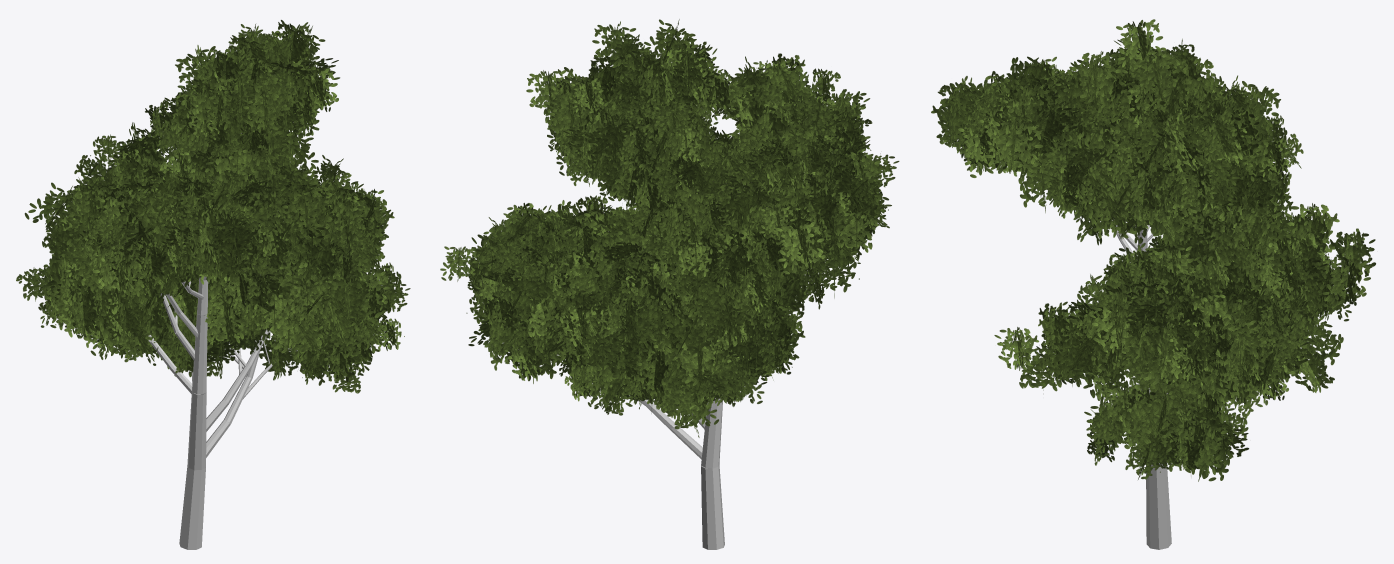
Rendered from beech_0.gltf.
3 renders of one model, left to right at view 1: azimuth 30°, elevation 25°; view 2: azimuth 150°, elevation 25°; view 3: azimuth 270°, elevation 25°, orthographic. The views are drawn at different scales.
Parts seen in each view (by area): view 1: LOD0; view 2: LOD0; view 3: LOD0.
Part boxes in pixels (box(x1,y1,x2,y2)): LOD0: box(16, 20, 410, 549); LOD0: box(440, 19, 899, 549); LOD0: box(931, 19, 1375, 549).
Size of what is drawn, in the model's own units: 15.18 by 19.48 by 14.24.
